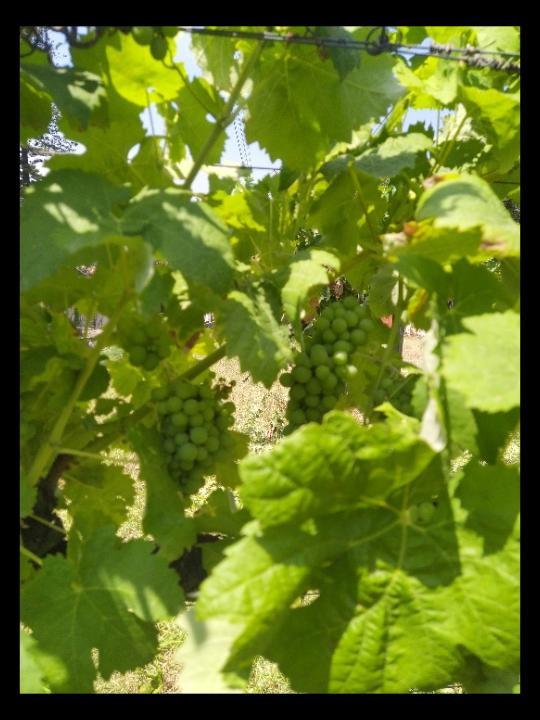grape: (276, 294, 377, 438), (148, 377, 238, 495)
